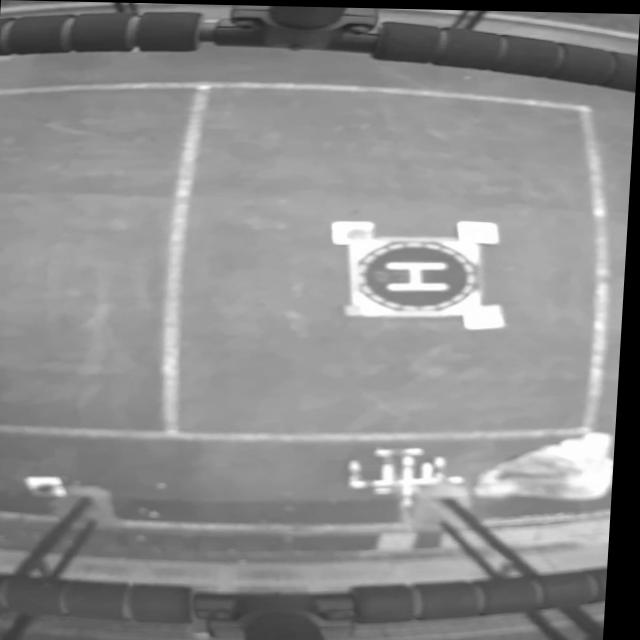Helipad: (388, 260, 450, 290)
